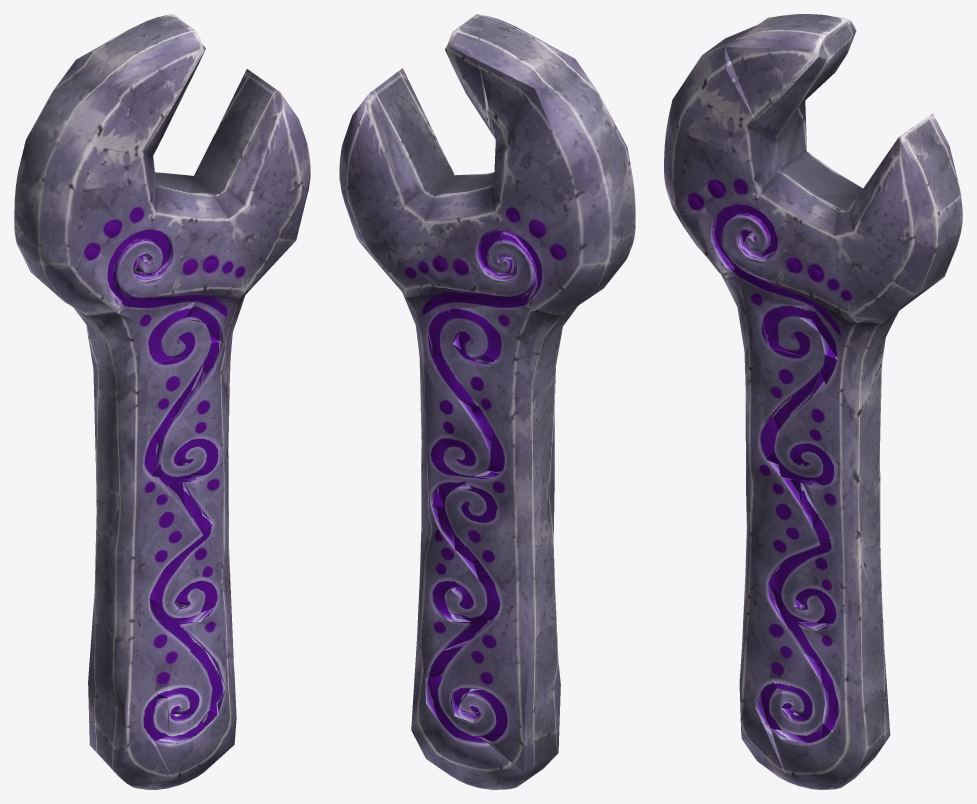
File: wrench.glb
3 views of the same model, side by side, from view 1: azimuth 30°, elevation 25°; view 2: azimuth 150°, elevation 25°; view 3: azimuth 330°, elevation 25° (orthographic).
Visible parts, largest first — view 1: Mesh_0; view 2: Mesh_0; view 3: Mesh_0.
Boxes of the visible parts, box(x1,y1,x2,y2) form: Mesh_0: box(14, 14, 310, 789); Mesh_0: box(339, 14, 635, 789); Mesh_0: box(664, 14, 962, 789).
Bounding box in the file's own units: 0.7173 × 1.9 × 0.2161.
1 material, 1 textured.
